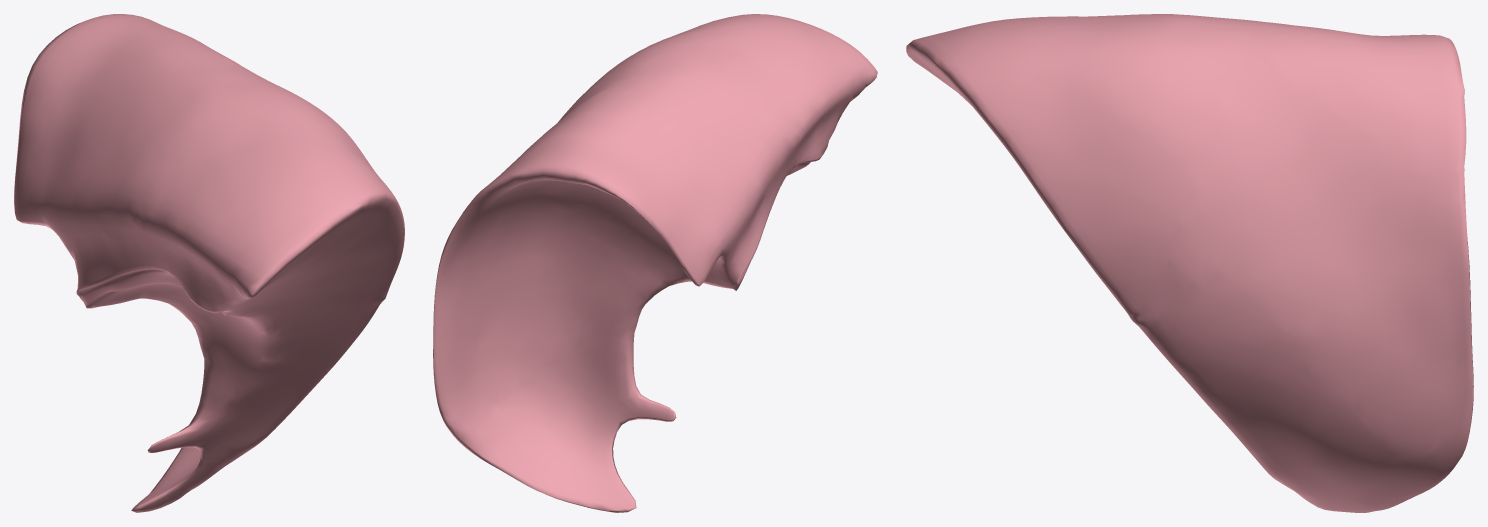
The picture shows the model from 3 angles, left to right: view 1: azimuth 30°, elevation 25°; view 2: azimuth 150°, elevation 25°; view 3: azimuth 270°, elevation 25°; orthographic projection. The views are drawn at different scales.
Parts seen in each view (by area): view 1: 左肺下叶; view 2: 左肺下叶; view 3: 左肺下叶.
Part boxes in pixels (left/top/right/bottom): 左肺下叶: left=14, top=14, right=404, bottom=512; 左肺下叶: left=433, top=14, right=877, bottom=512; 左肺下叶: left=906, top=14, right=1473, bottom=512.
Size of the model in its own units: 0.1642 by 0.268 by 0.2851.
